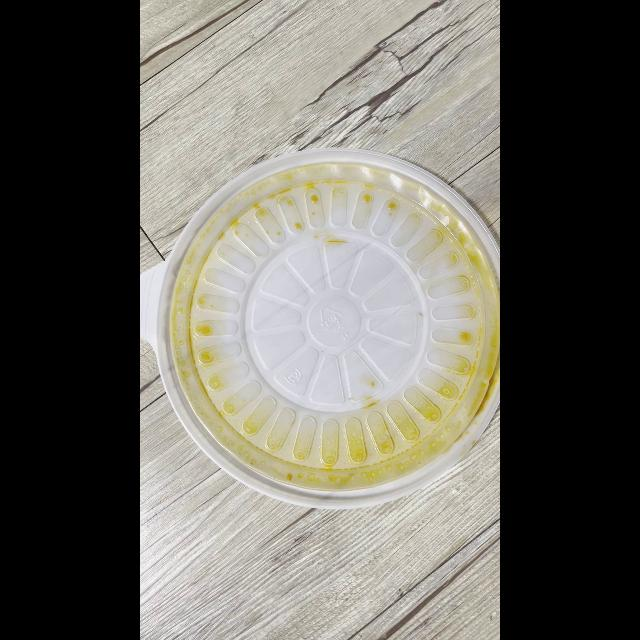dirty: (160, 149, 496, 497)
